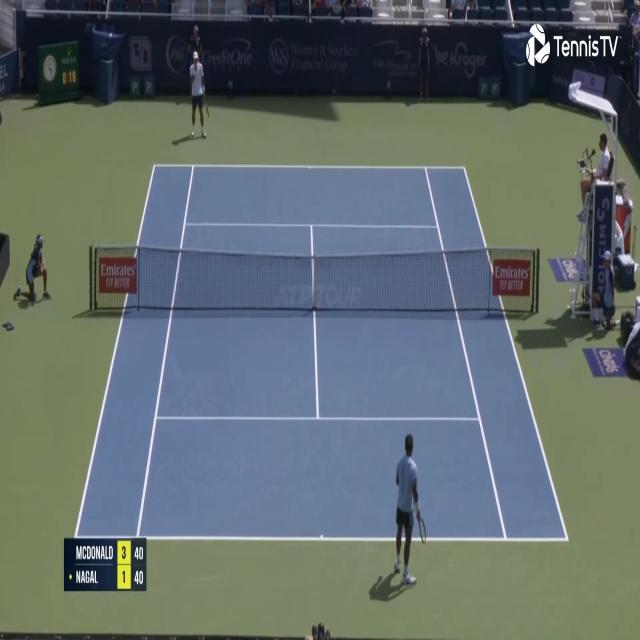tennis-player: (390, 430, 427, 593), (188, 48, 210, 140)
